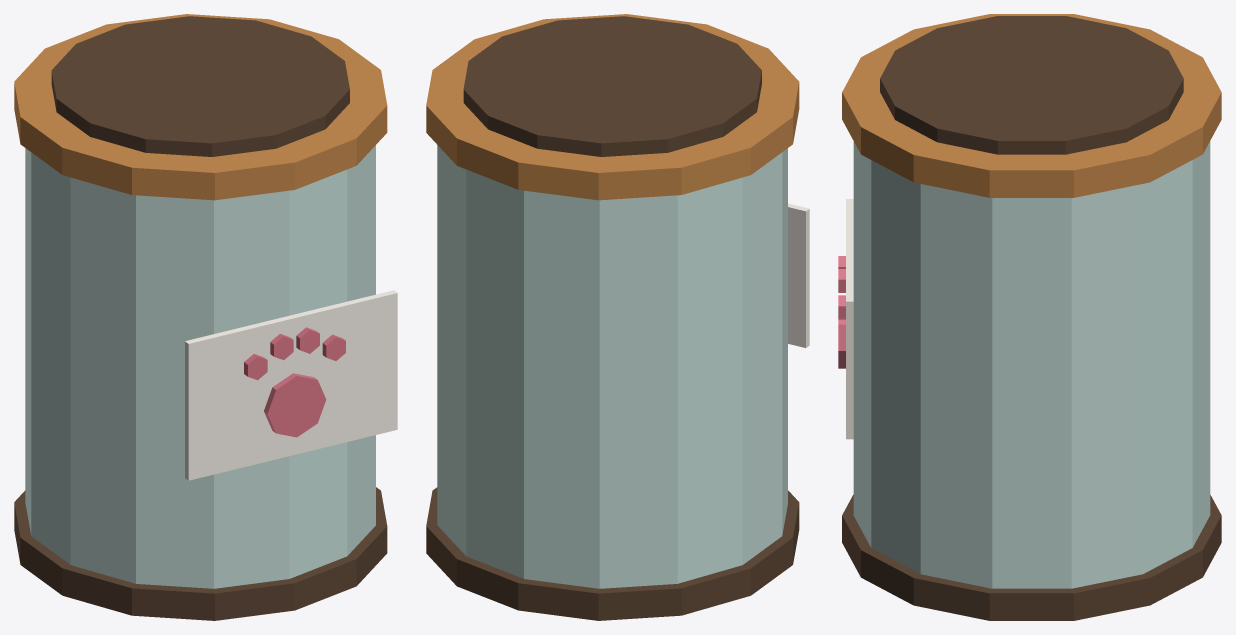
The model's file is CatCafe_Prop_AwayJar.glb.
3 views of the same model, side by side, from view 1: azimuth 30°, elevation 25°; view 2: azimuth 150°, elevation 25°; view 3: azimuth 270°, elevation 25° (orthographic).
Parts seen in each view (by area): view 1: CatCafe_Prop_AwayJar_Glass, CatCafe_Prop_AwayJar; view 2: CatCafe_Prop_AwayJar_Glass, CatCafe_Prop_AwayJar; view 3: CatCafe_Prop_AwayJar_Glass, CatCafe_Prop_AwayJar.
Boxes of the visible parts, <box> form: CatCafe_Prop_AwayJar_Glass: <box>25,145,375,588</box>; CatCafe_Prop_AwayJar: <box>14,14,397,620</box>; CatCafe_Prop_AwayJar_Glass: <box>437,145,787,588</box>; CatCafe_Prop_AwayJar: <box>426,14,809,620</box>; CatCafe_Prop_AwayJar_Glass: <box>853,141,1210,588</box>; CatCafe_Prop_AwayJar: <box>838,14,1221,620</box>.
Size of the model in its own units: 0.9749 by 1.35 by 1.01.
1 material, 1 textured.
